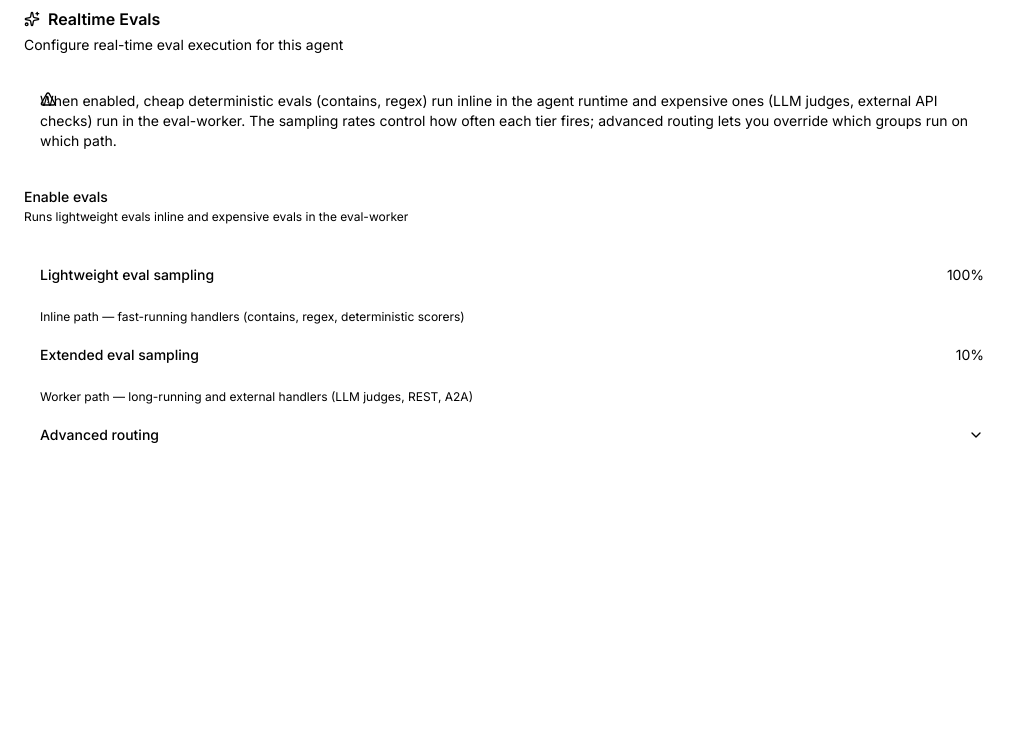
EvalConfigPanel › advanced routing › renders custom groups already on the agent as removable chips
Click the button "Advanced routing". click: point(100, 434)
box: [40,425,984,445]
(page scrolled)
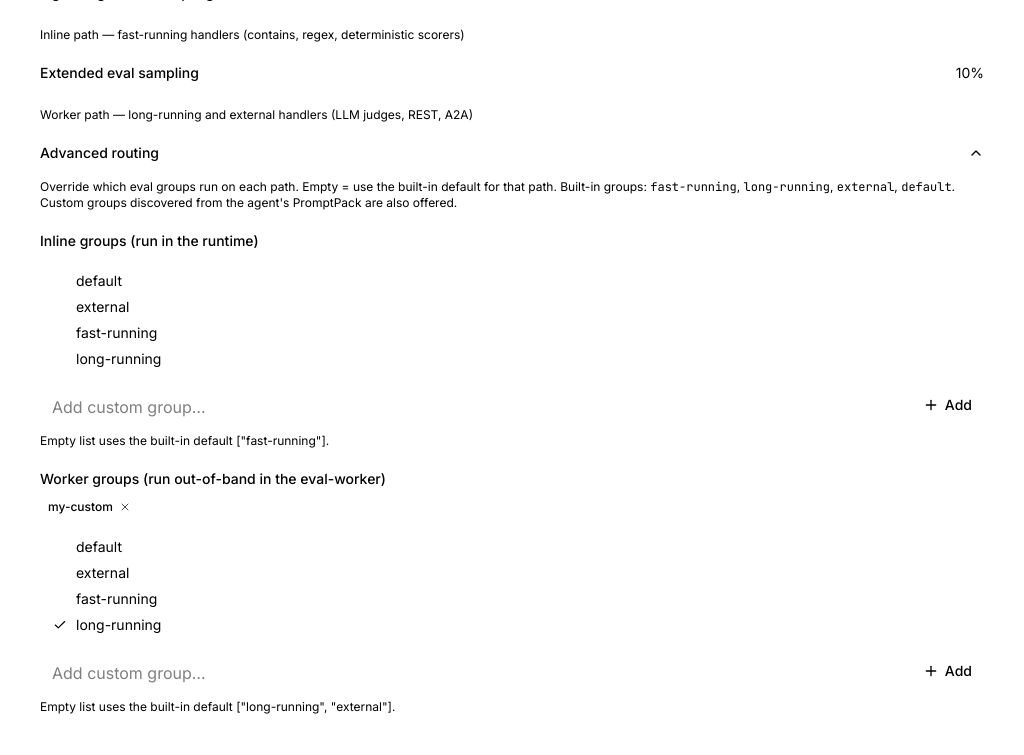
Check: the text "my-custom" is shown, box [48,499,131,514]
